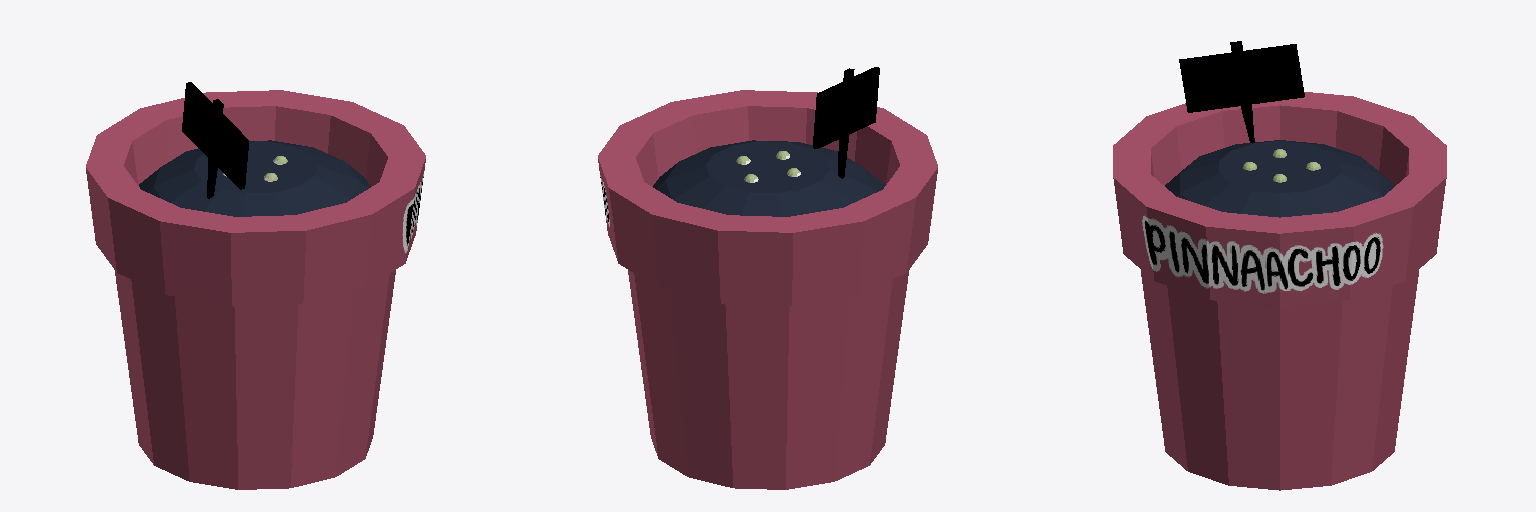
3 views of the same model, side by side, from view 1: azimuth 30°, elevation 25°; view 2: azimuth 150°, elevation 25°; view 3: azimuth 270°, elevation 25° (orthographic).
Parts seen in each view (by area): view 1: pCylinder1_initialShadingGroup, pCylinder2_initialShadingGroup, pCylinder3_initialShadingGroup, pCube1_initialShadingGroup; view 2: pCylinder2_initialShadingGroup, pCylinder1_initialShadingGroup, pCylinder3_initialShadingGroup, pCube1_initialShadingGroup; view 3: pCylinder1_initialShadingGroup, pCylinder2_initialShadingGroup, pCylinder3_initialShadingGroup, pCube1_initialShadingGroup.
Part boxes in pixels (x1,y1,x2,y2): pCylinder1_initialShadingGroup: (86,90,425,305); pCylinder2_initialShadingGroup: (115,270,395,489); pCylinder3_initialShadingGroup: (139,140,370,216); pCube1_initialShadingGroup: (182,82,248,198); pCylinder2_initialShadingGroup: (628,270,908,489); pCylinder1_initialShadingGroup: (598,90,937,305); pCylinder3_initialShadingGroup: (653,140,884,216); pCube1_initialShadingGroup: (813,67,879,178); pCylinder1_initialShadingGroup: (1113,92,1446,306); pCylinder2_initialShadingGroup: (1141,270,1418,490); pCylinder3_initialShadingGroup: (1165,140,1394,217); pCube1_initialShadingGroup: (1179,41,1304,142).
Size of the model in its own units: 1.92 by 2.3 by 1.87.
1 materials, 1 textured.